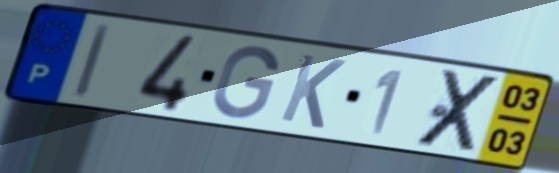1: (369, 68, 405, 136)
4: (132, 31, 197, 113)
G: (208, 43, 283, 121)
I: (69, 21, 115, 102)
K: (275, 50, 349, 132)
X: (410, 68, 507, 155)
